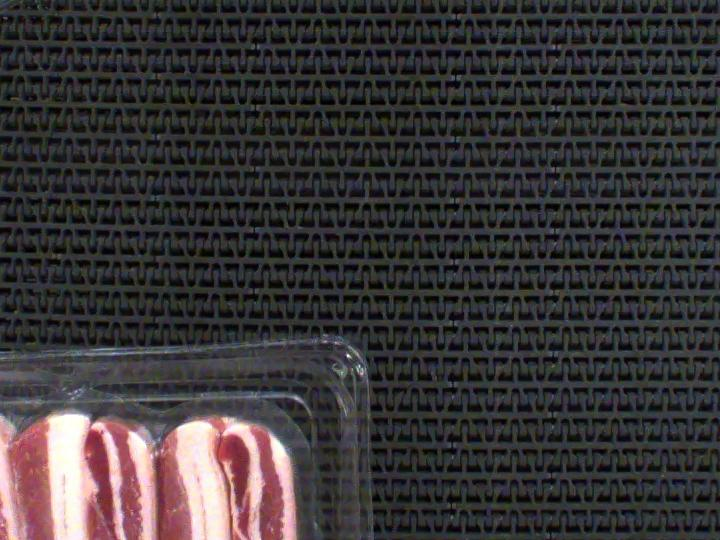unsealed: (0, 382, 329, 498)
